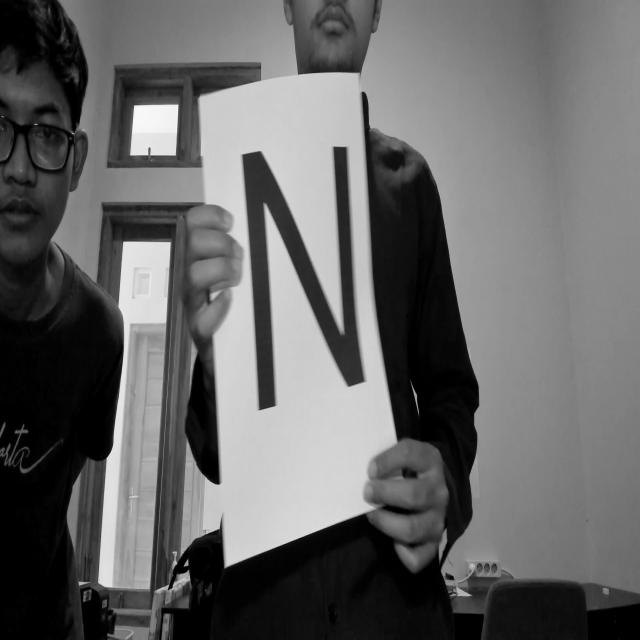n: (234, 130, 372, 427)
